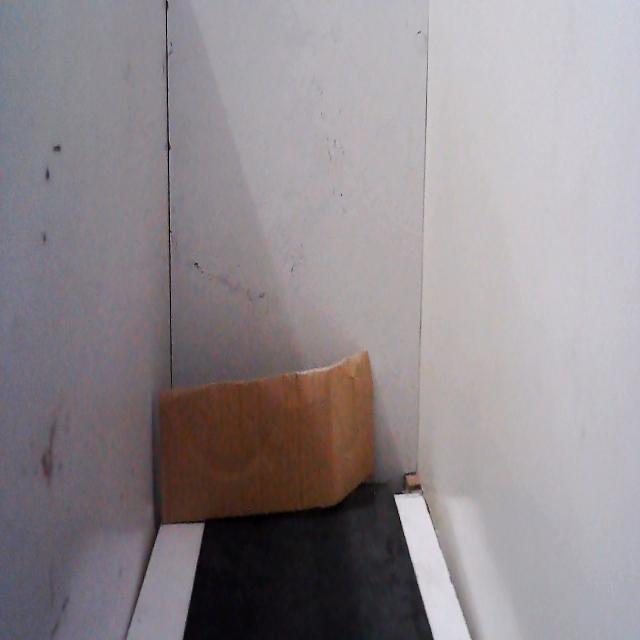papel: (152, 340, 380, 530)
